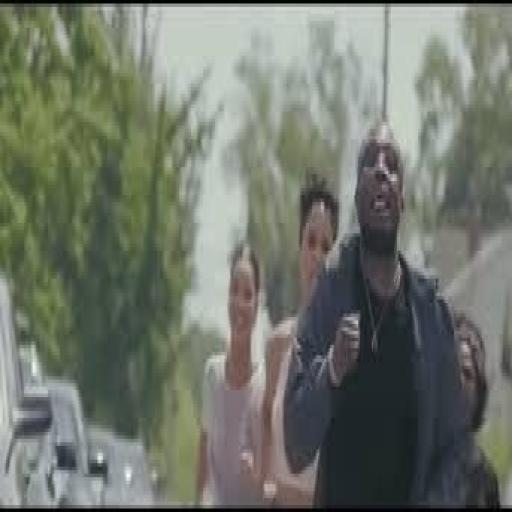running: (282, 115, 466, 508), (260, 170, 342, 508), (194, 237, 270, 508), (425, 303, 503, 509)
